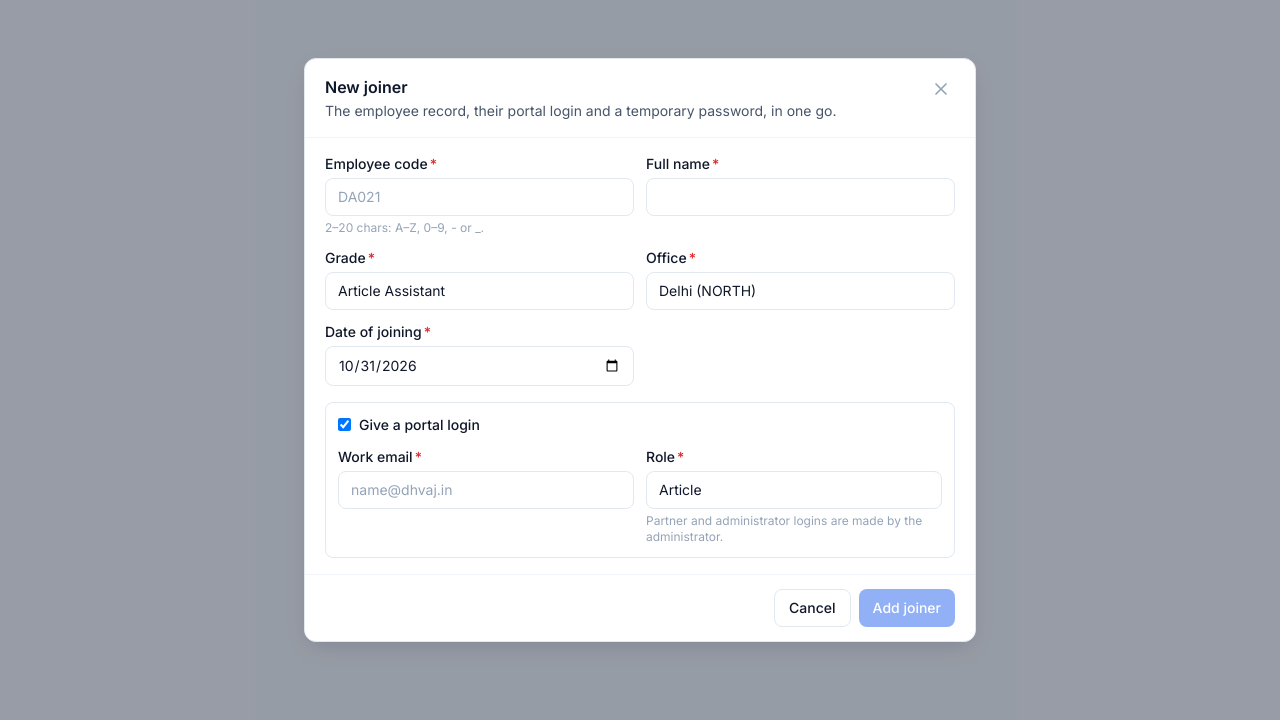
says what was made when the employee record is refused
Type "DA022" into the field labelled "Employee code* 2–20 chars: A–Z, 0–9, - or _." at (480, 197), box [325,178,634,216]
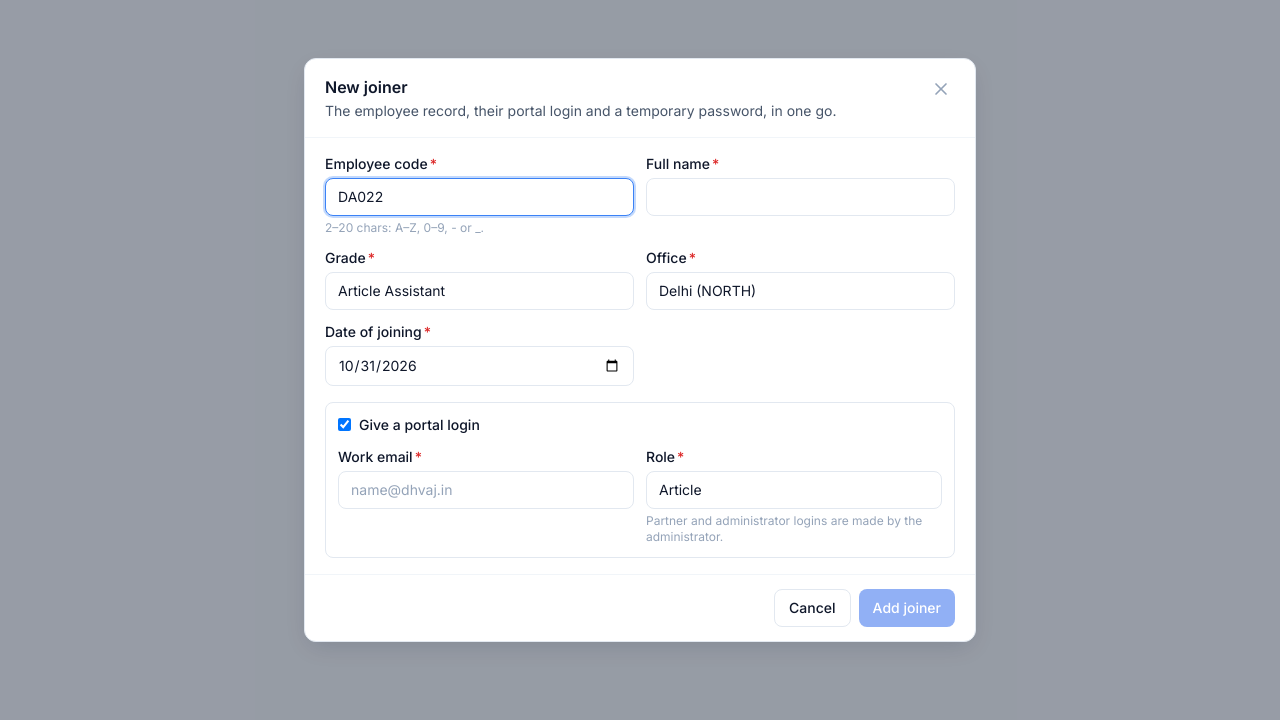
Type "Neha Joshi" into the field labelled "Full name*" at (800, 197), box [646,178,955,216]
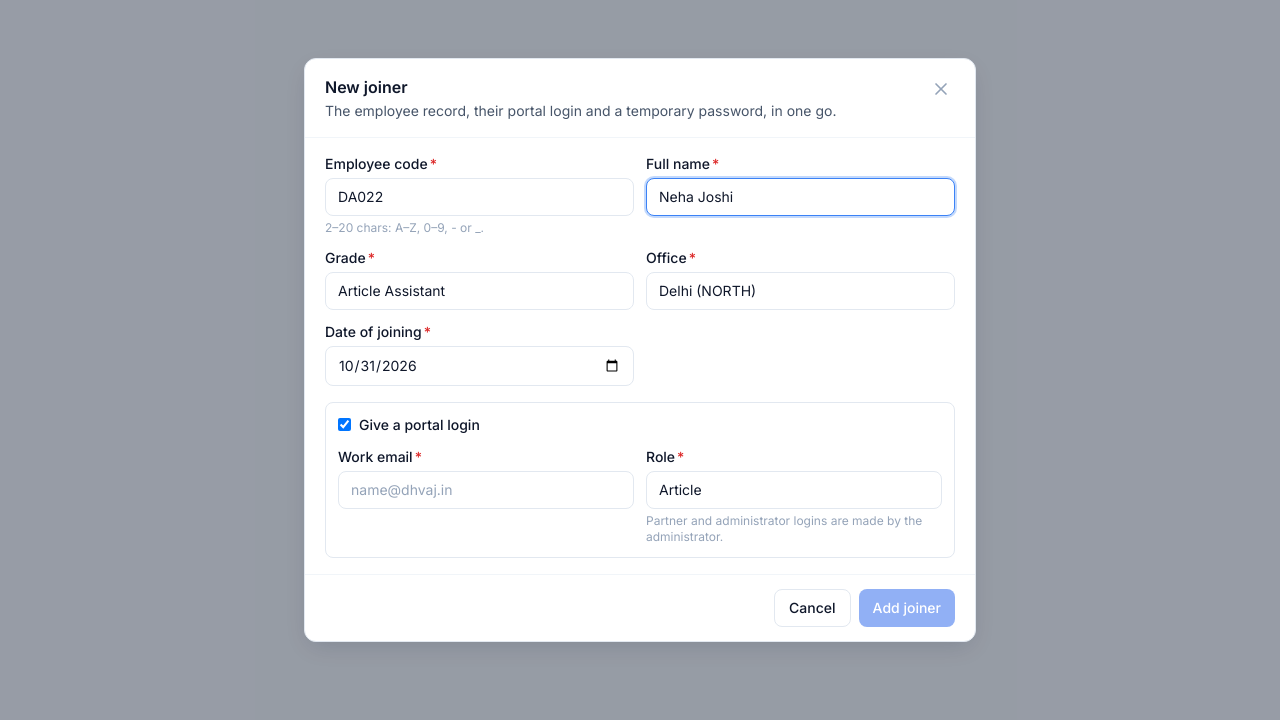
Type "neha@dhvaj.in" into the field labelled "Work email*" at (486, 490), box [338,471,634,509]
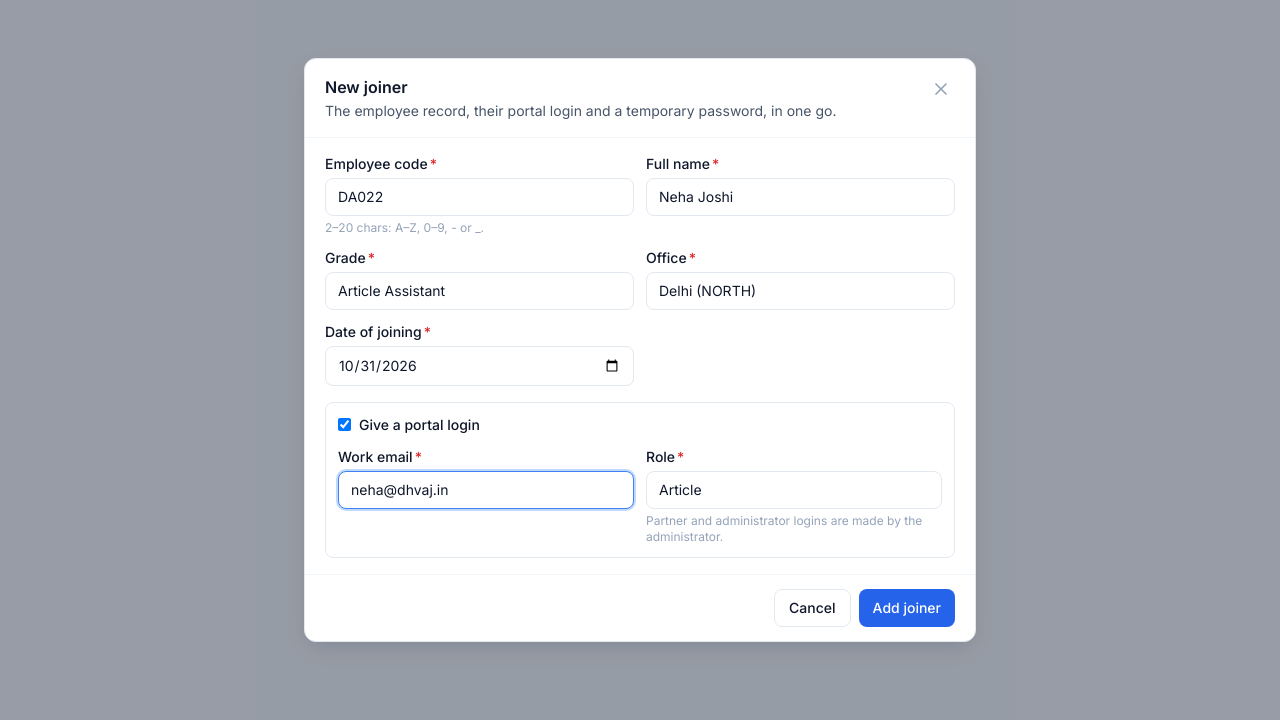
Click the button "Add joiner" at (907, 608), box [859,589,955,627]
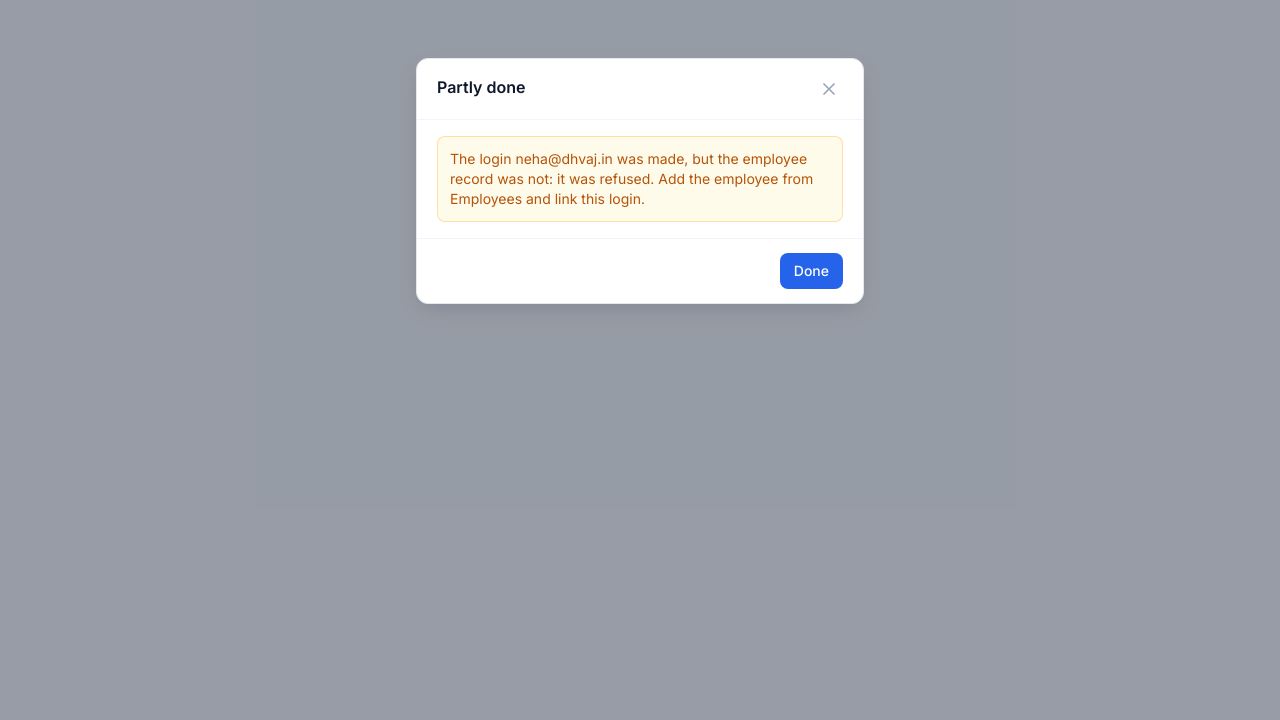
Check: the heading "Partly done" is shown, box [437,75,525,99]
Check: the text "The login neha@dhvaj.in was made, but the employee record was not" is shown, box [450,150,813,207]
